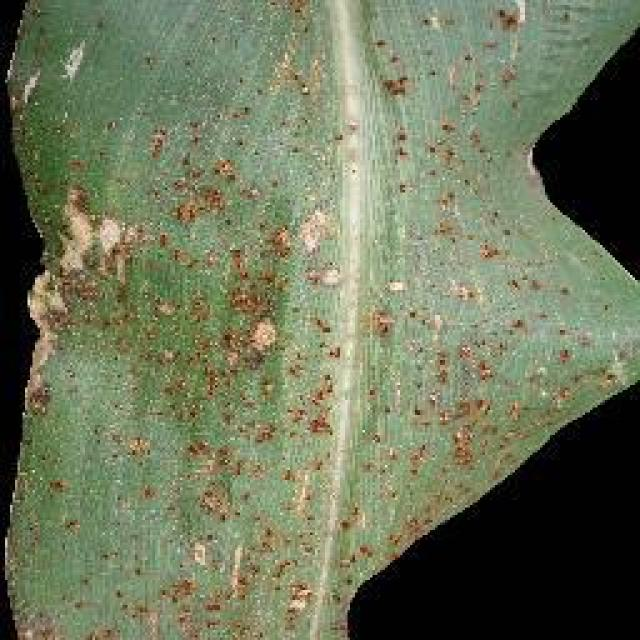Corn Common Rust: (0, 57, 525, 595)
